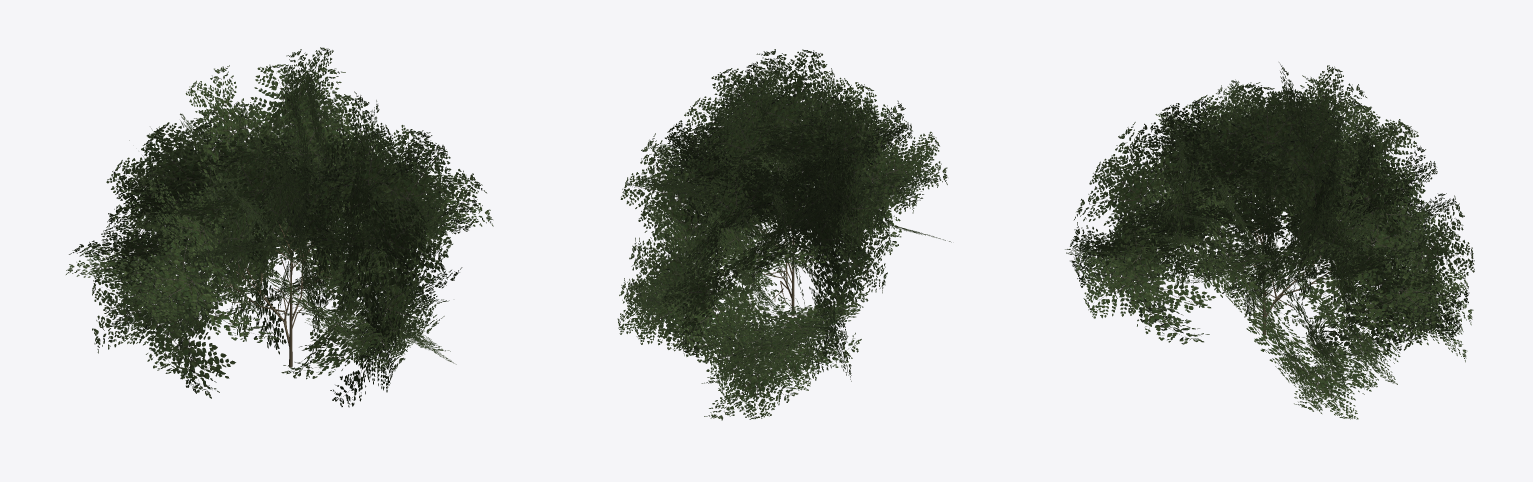
File: buisson.fbx
The picture shows the model from 3 angles, left to right: view 1: azimuth 30°, elevation 25°; view 2: azimuth 150°, elevation 25°; view 3: azimuth 270°, elevation 25°; orthographic projection. The views are drawn at different scales.
Parts seen in each view (by area): view 1: Sans_titre; view 2: Sans_titre; view 3: Sans_titre.
Boxes of the visible parts, left/top/right/bottom form: Sans_titre: left=66, top=47, right=493, bottom=407; Sans_titre: left=617, top=49, right=951, bottom=420; Sans_titre: left=1065, top=62, right=1474, bottom=419.
Size of the model in its own units: 2.53 by 2.45 by 2.79.
Materials: 2 (1 with a texture image).
